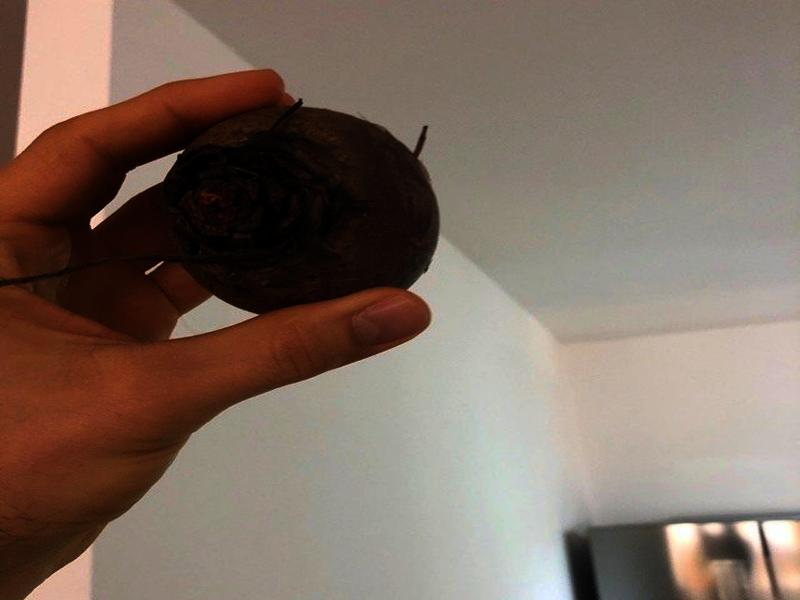Beet: (2, 98, 441, 317)
